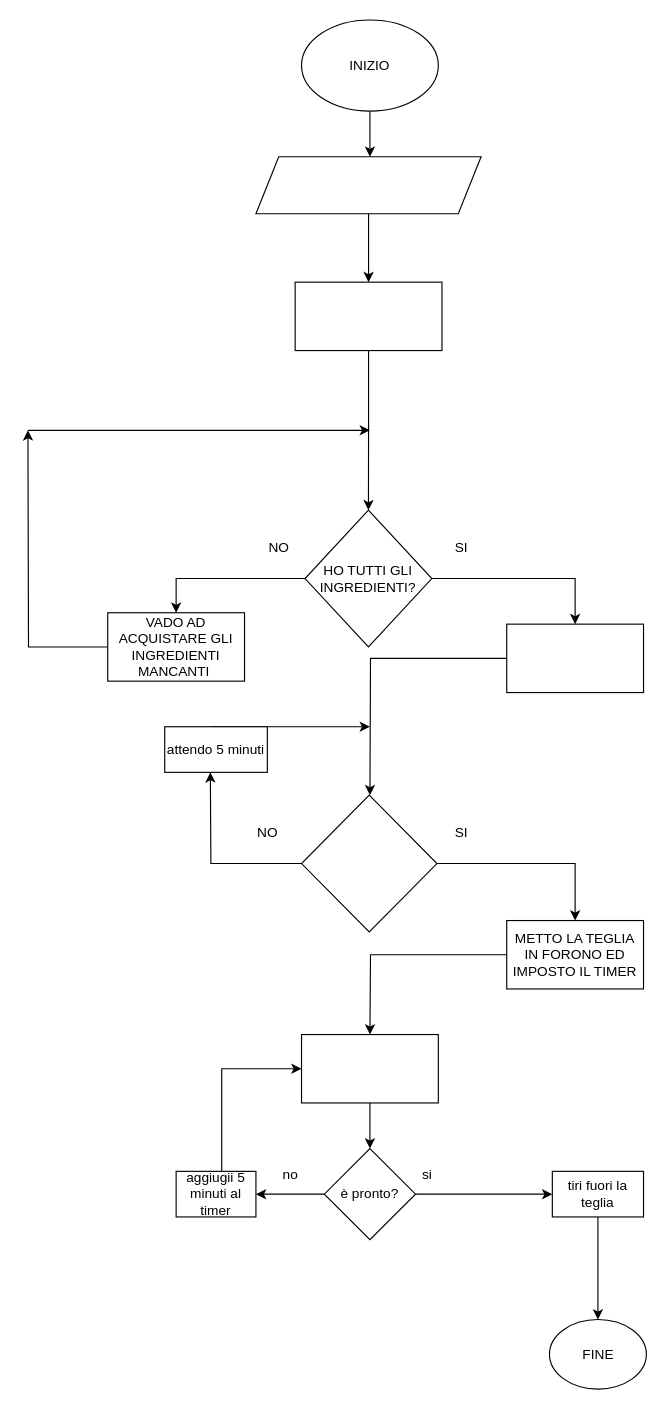
Some shapes in this 667 by 1409 pixel diagram are drawn without their labels. The shapes that lost their labels are listed below. From the top down, each one's centre as x and y in pixels, then its label:
(368,185): LEGGO LA RICETTA ONLINE
(368,316): VERIFICO DI AVERE TUTTI GLI INGREDIENTI
(575,658): PROCEDO CON LA PREPARAZIONE
(368,863): Verificare che il forno sia caldo
(369,1068): AL SUONO DEL TIMER VERIFICO SE SIA PRONTO
